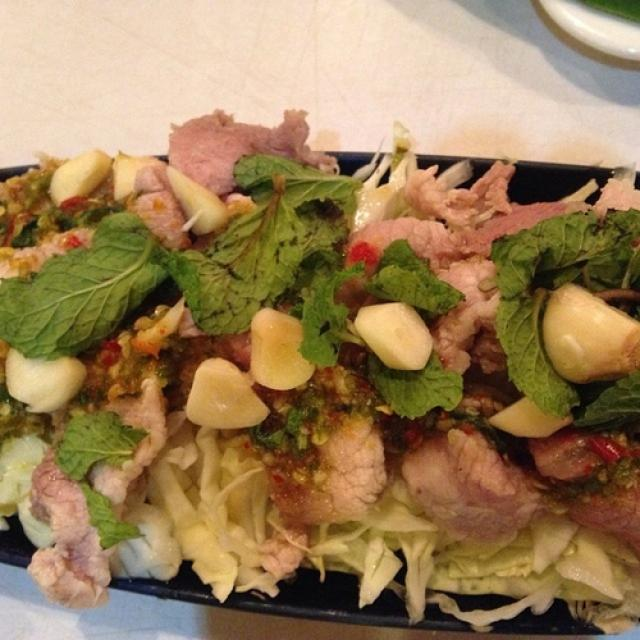猪肉菜式: (8, 92, 627, 618)
